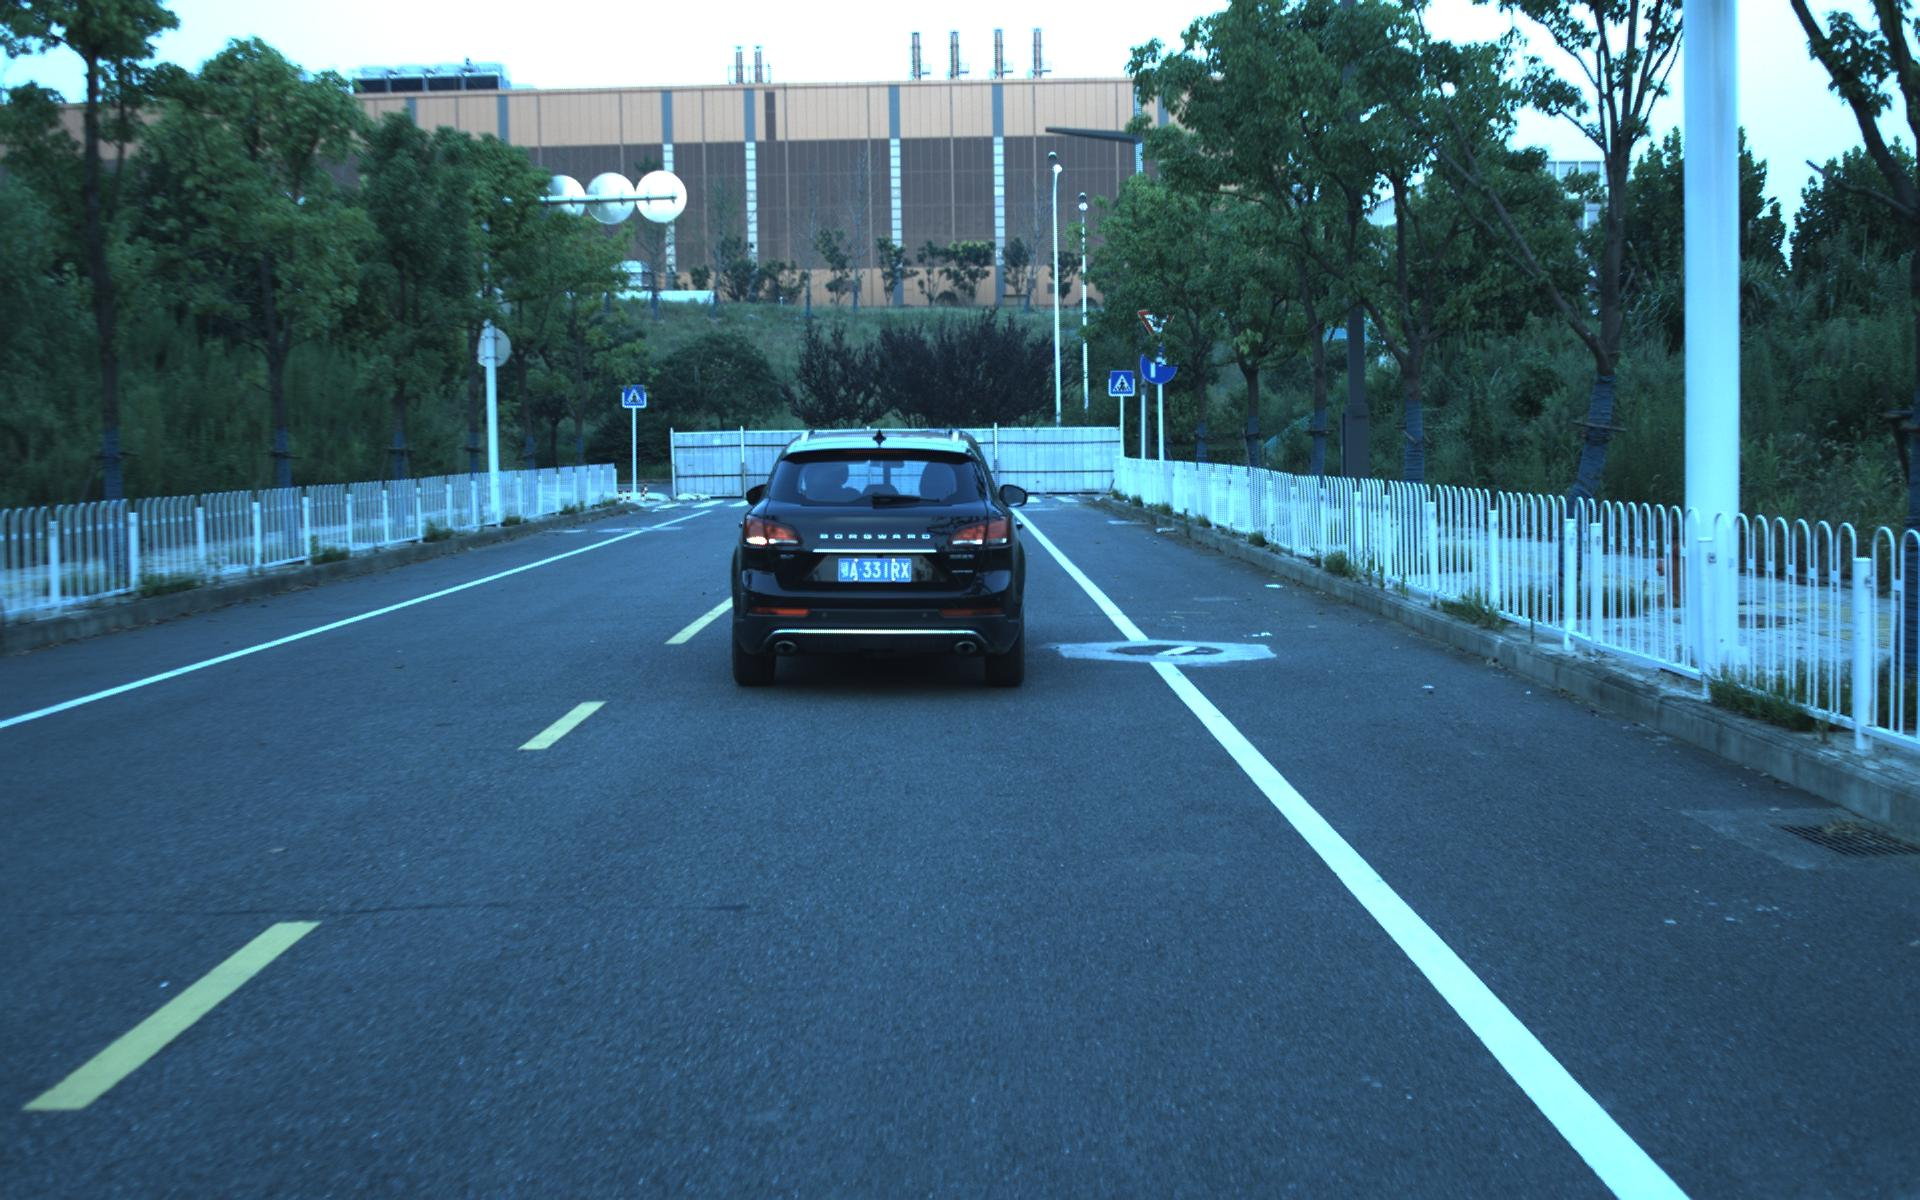Car: (728, 420, 1028, 691)
